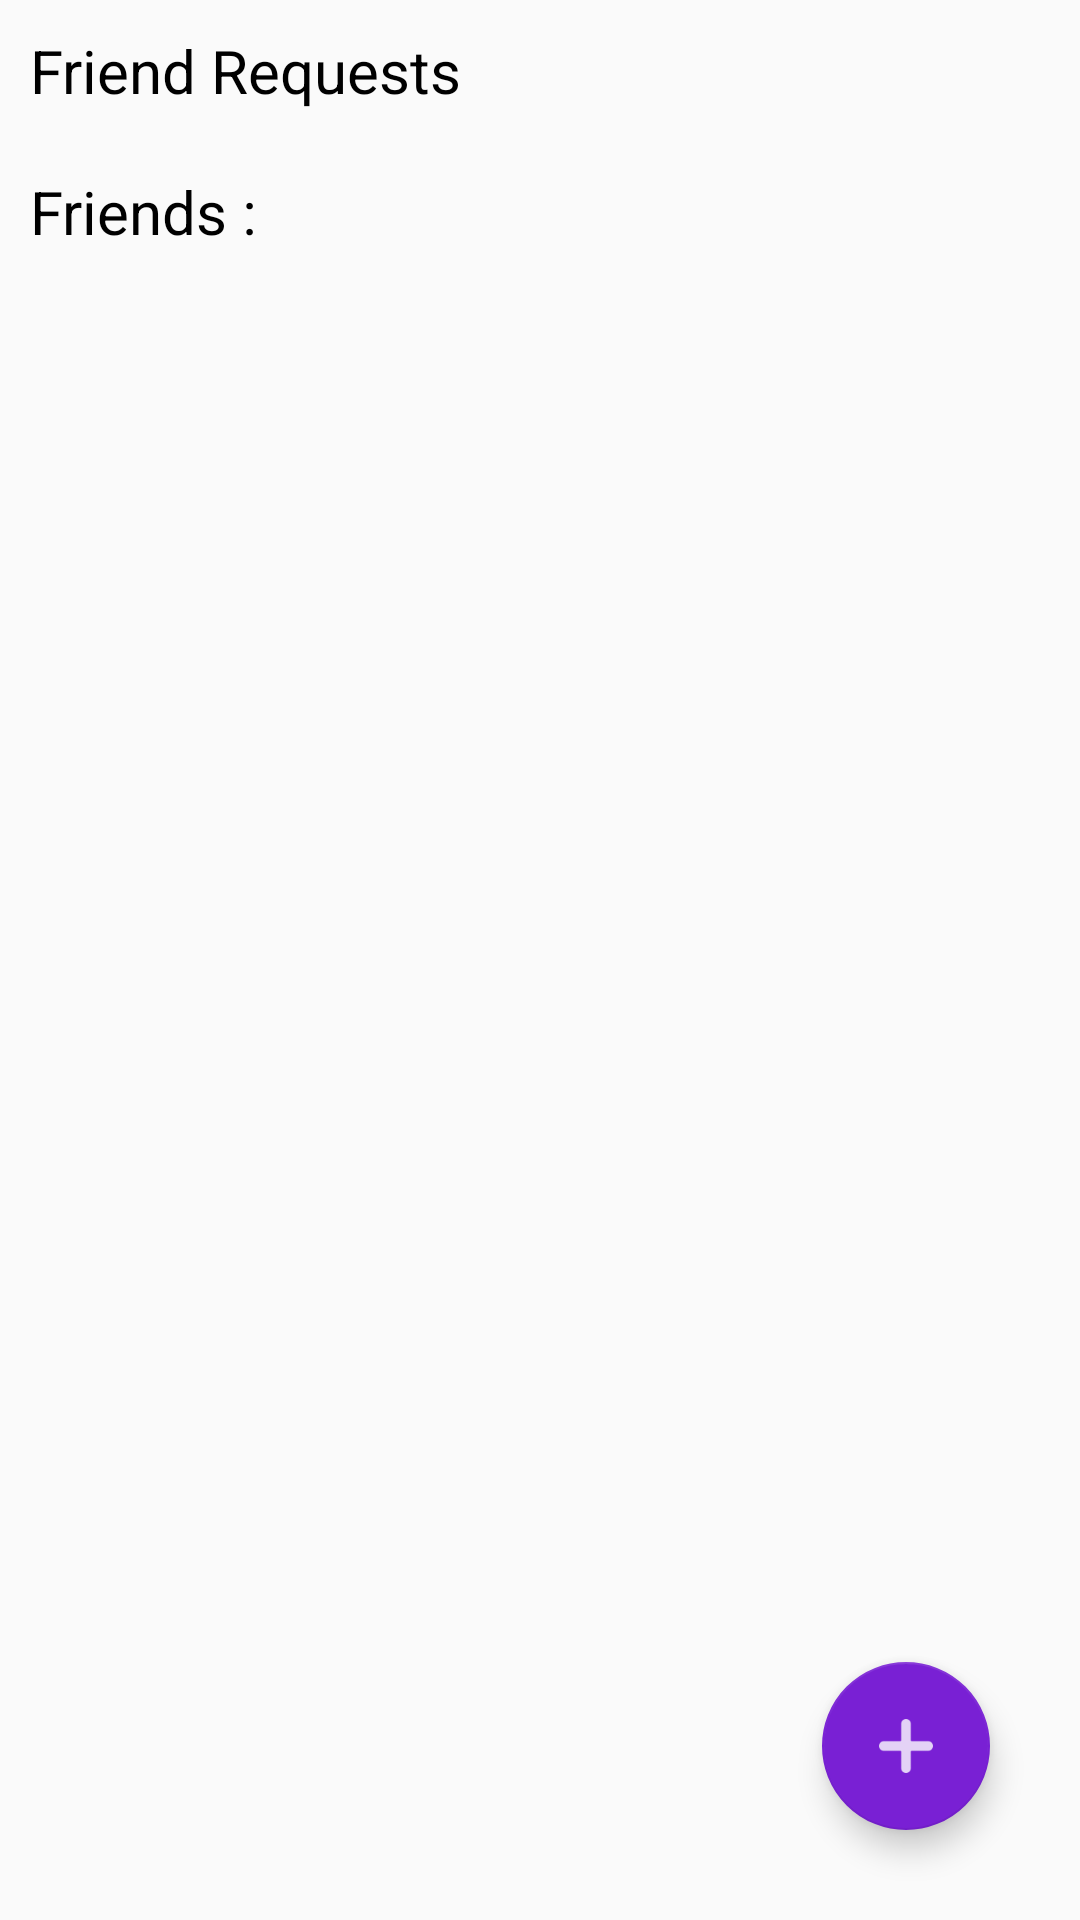

Where to tap for icons on this 1080px×1920px app screen, as (x=x, y=y):
add: (x=906, y=1746)
